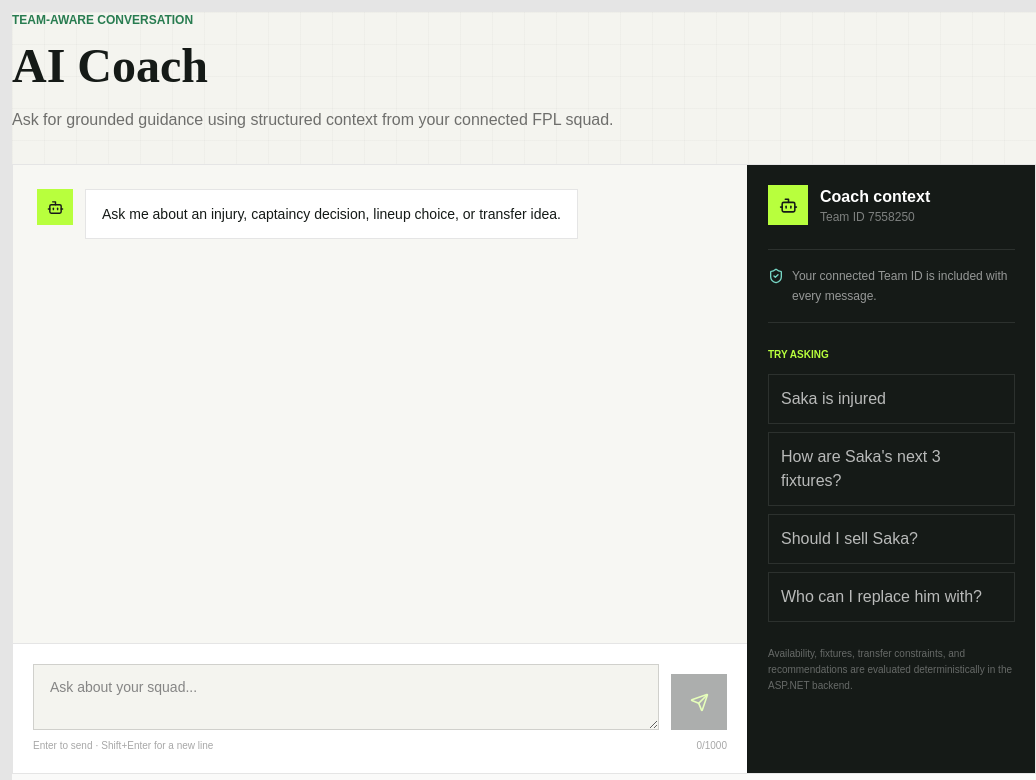
Test: CoachPage › renders structured fixture difficulty results
Type "How are Saka's next 3 fixtures?" into the text box named "Message AI Coach" at (346, 697), box left=33, top=664, right=659, bottom=730
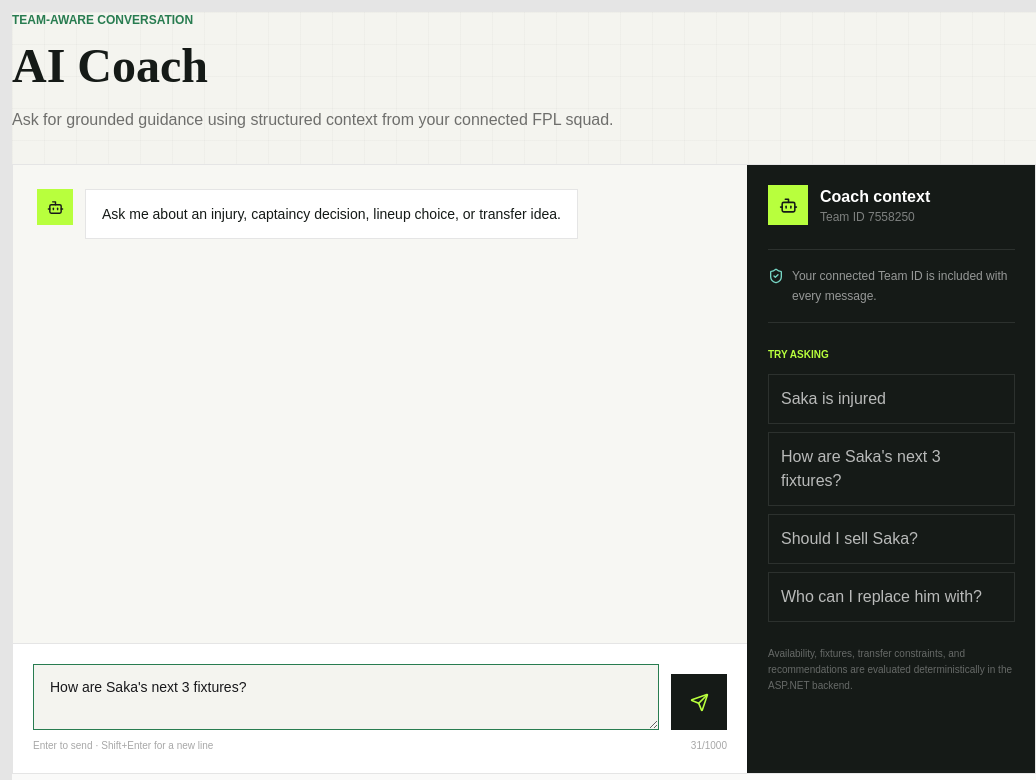
Click the button named "Send message" at (699, 702), box left=671, top=674, right=727, bottom=730
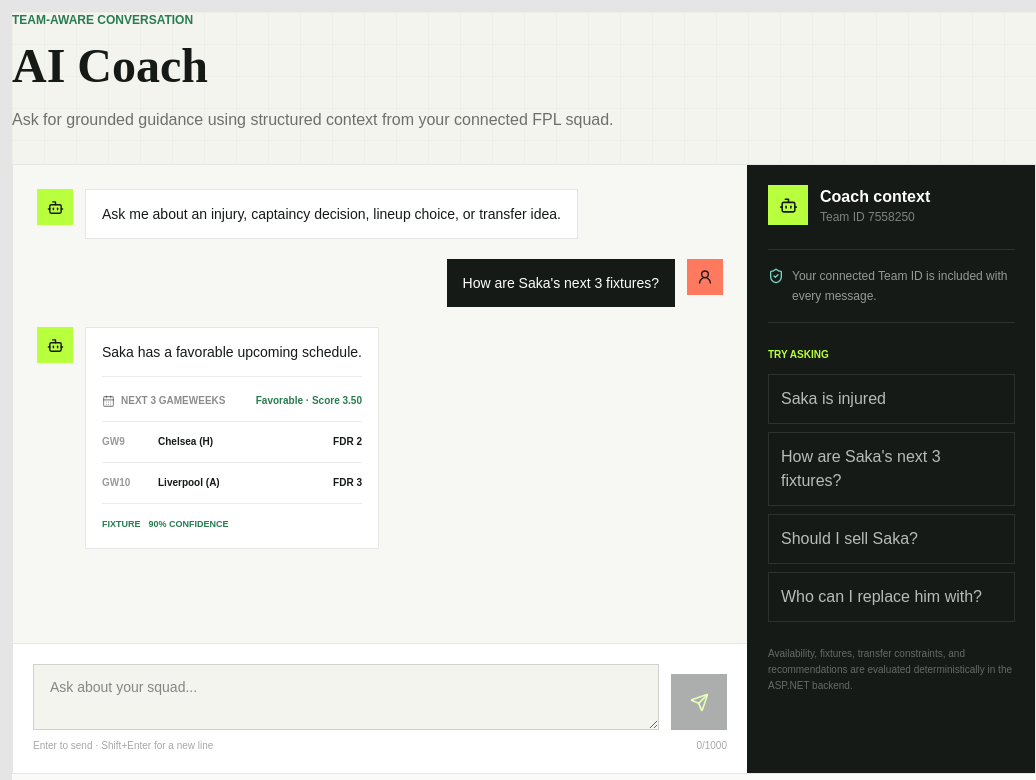
Now the text "Chelsea (H)" is shown, box left=158, top=436, right=213, bottom=447
Now the text "Liverpool (A)" is shown, box left=158, top=477, right=220, bottom=488
Now the text "Favorable · Score 3.50" is shown, box left=256, top=395, right=362, bottom=406
